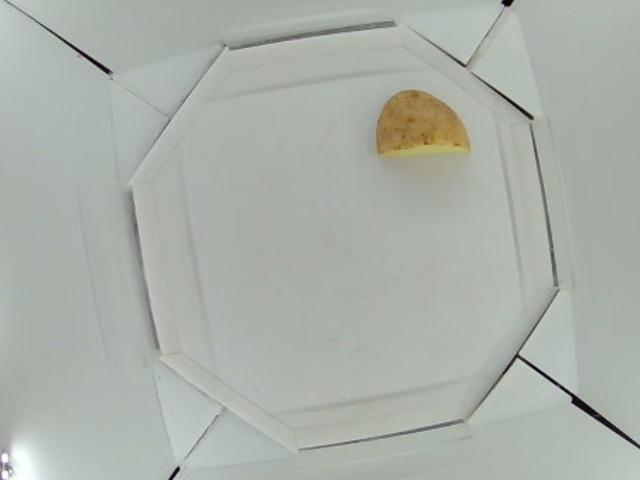Potato: (377, 90, 472, 159)
